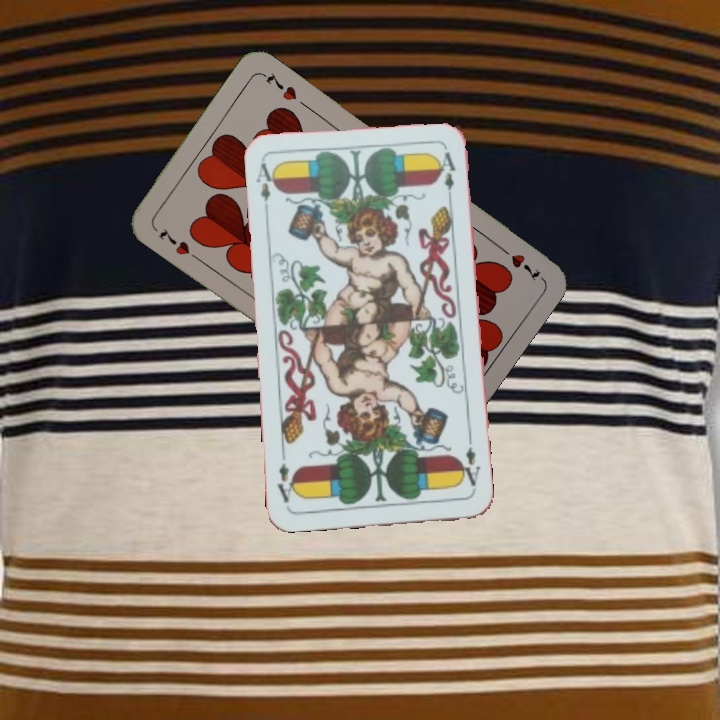EA: (456, 435, 484, 494), (252, 159, 280, 217)
H7: (493, 241, 544, 283), (154, 224, 193, 258)
